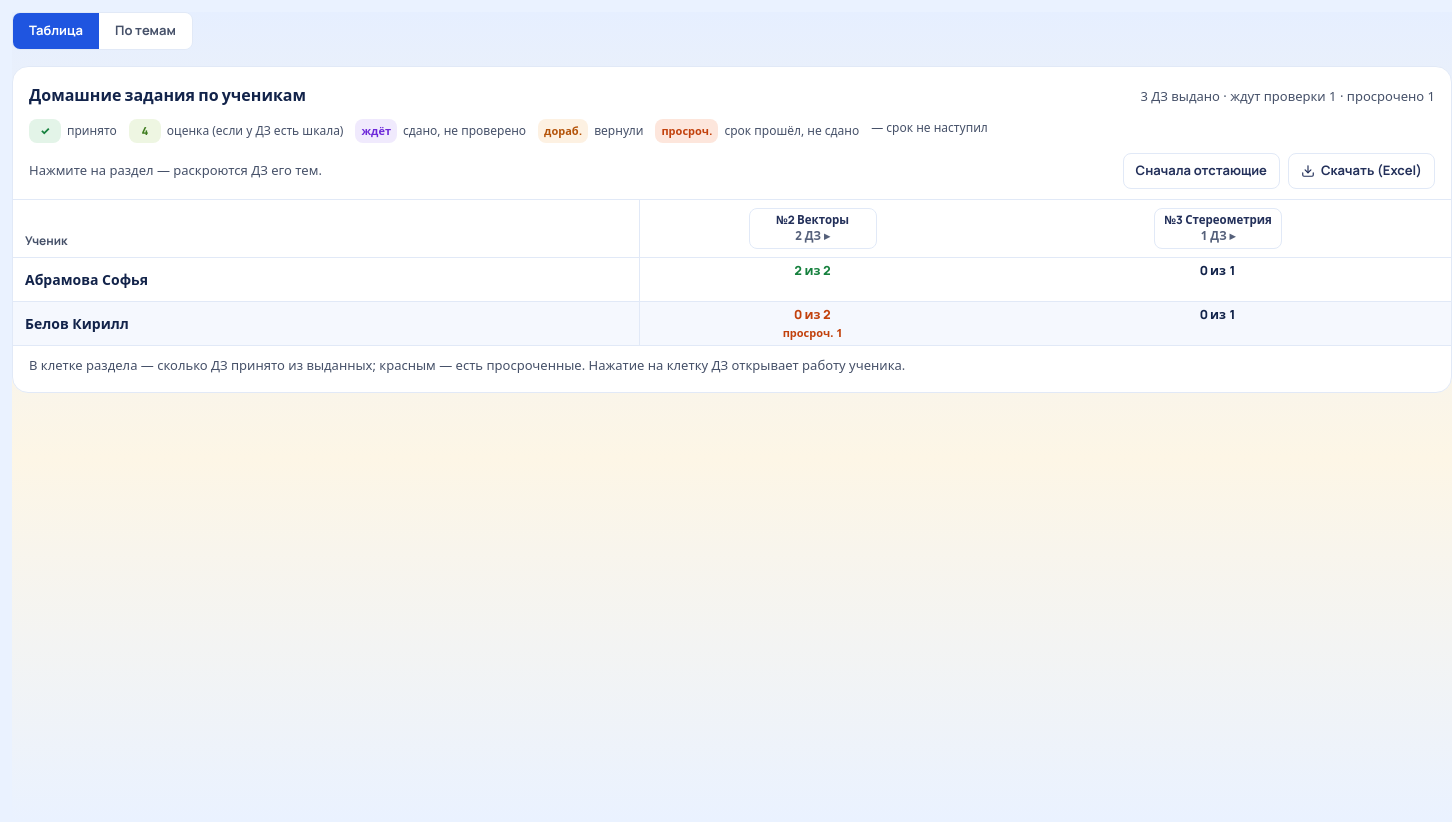
Вкладка «Домашние задания» — журнал (§250) › нажатие на раздел раскрывает ДЗ его тем: ✓, оценка, просроч. (срок прошёл), ждёт; повторное — сворачивает
Expected: the table with test id "hw-table" is shown, [13,200,1451,346]
Click the button with test id "hw-section-toggle" at x=812, y=228, box [748,208,876,249]
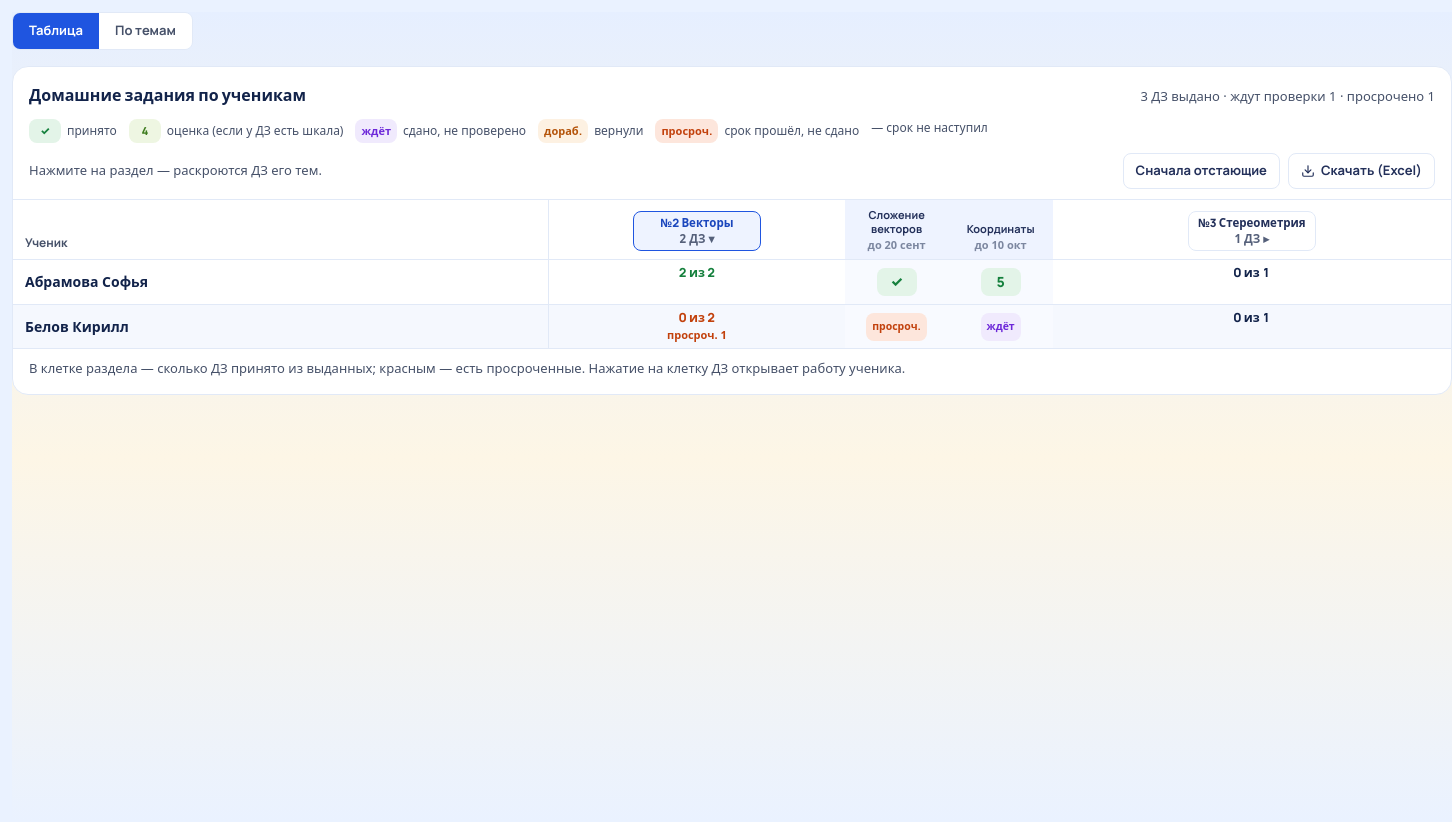
Result: the button with test id "hw-section-toggle" is expanded
Result: the elements with test id "hw-col" read "Сложение векторовдо 20 сент", "Координатыдо 10 окт", in this order at [845,200,949,260]; [949,200,1053,260]
Click the button with test id "hw-section-toggle" at x=697, y=231, box [633,210,761,251]
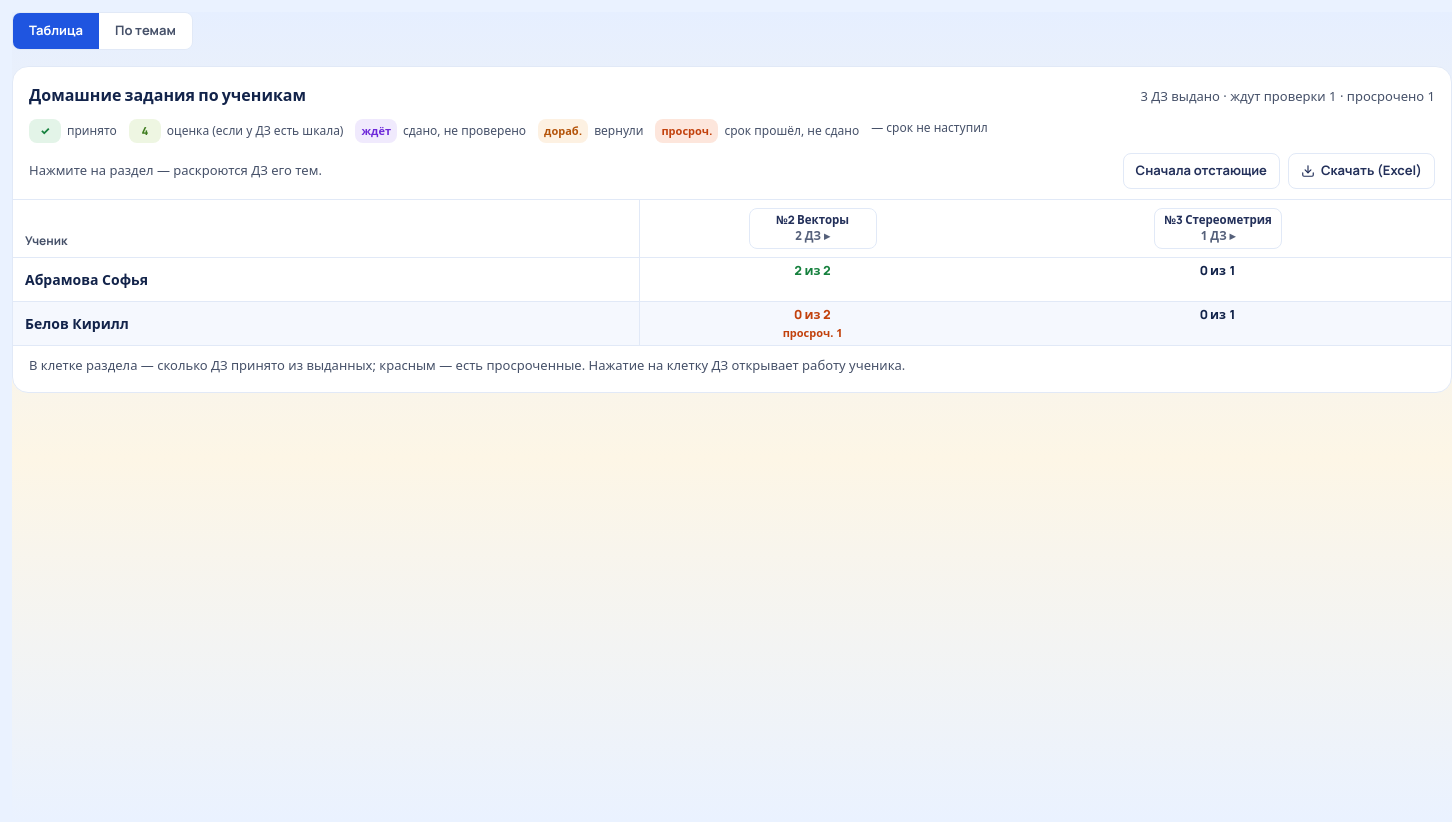
Result: no column headings with test id "hw-col" are shown
